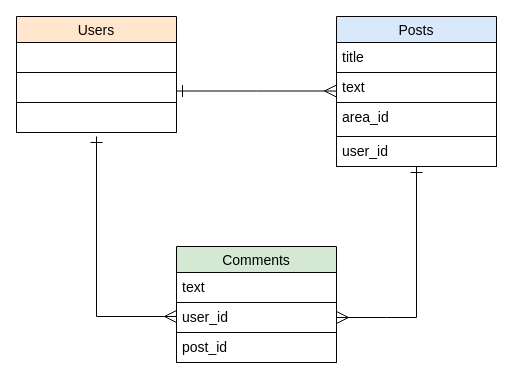
Some shapes in this 513 by 379 pixel diagram are drawn without their labels. The shapes that lost their labels are listed below. From the top down, each one's centre as x and y in pixels, then its label:
(96,57): email
(96,87): encrypted_password
(96,117): name
